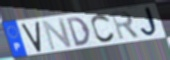C: (90, 13, 117, 44)
D: (65, 16, 92, 48)
J: (140, 5, 162, 39)
N: (41, 17, 74, 51)
R: (109, 9, 142, 42)
V: (21, 20, 43, 54)
